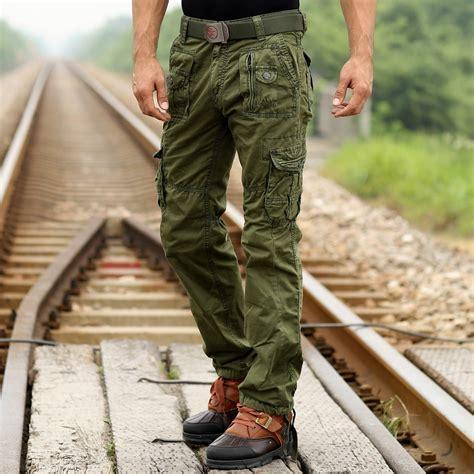pants: (152, 9, 314, 415)
